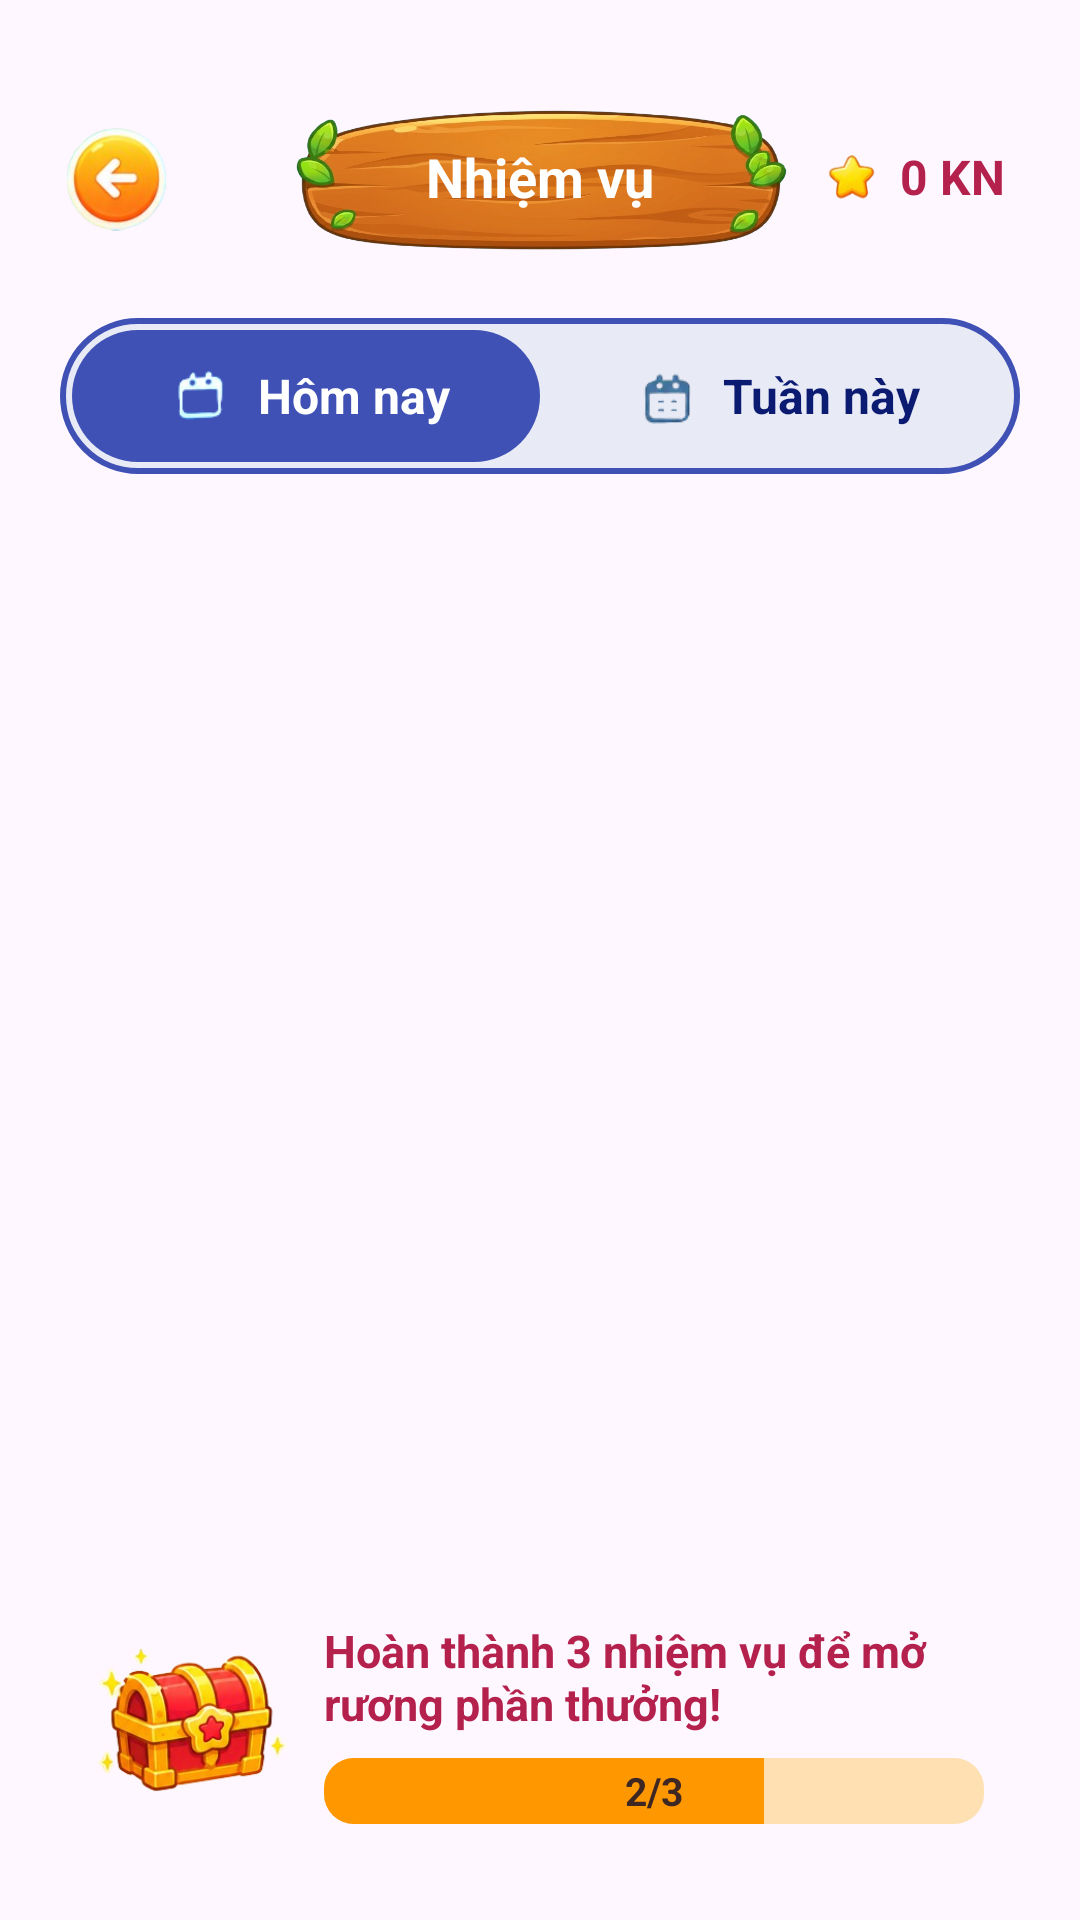

Screen size 1080w x 1920h. Icon name, then its box in pixels as (x1, y1, x2, y2):
Quay lại: (67, 129, 166, 231)
Điểm KN: (829, 155, 875, 199)
